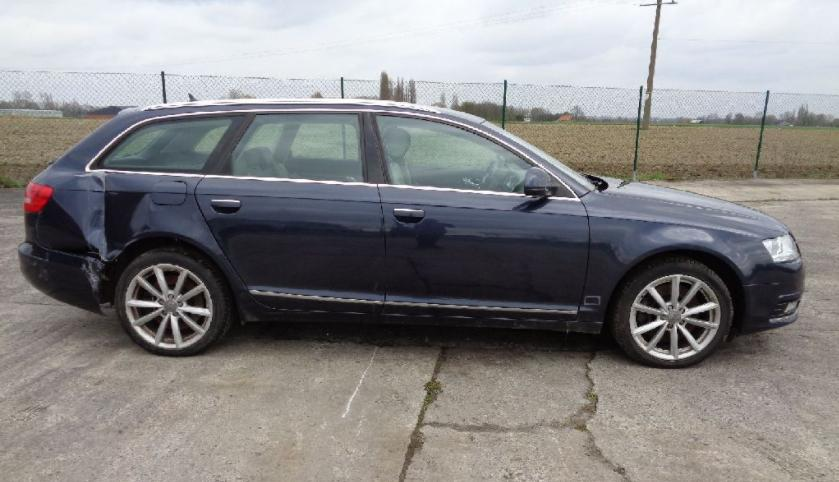Back-bumper: (18, 242, 107, 317)
Back-door: (194, 111, 385, 315)
Back-wheel: (115, 248, 229, 357)
Back-window: (217, 113, 366, 184), (88, 113, 248, 174)
Fender: (575, 217, 773, 323)
Front-bumper: (736, 257, 805, 336)
Front-door: (371, 112, 589, 322)
Front-wheel: (614, 258, 733, 367)
Front-window: (375, 114, 576, 199)
Headlight: (762, 233, 801, 263)
Hood: (579, 173, 790, 240)
Mirror: (525, 168, 557, 197)
Quarter-panel: (24, 170, 255, 302)
Rocker-panel: (236, 301, 603, 334)
Roof: (143, 98, 486, 126)
Tail-light: (24, 182, 54, 214)
Windshield: (478, 120, 594, 199)
